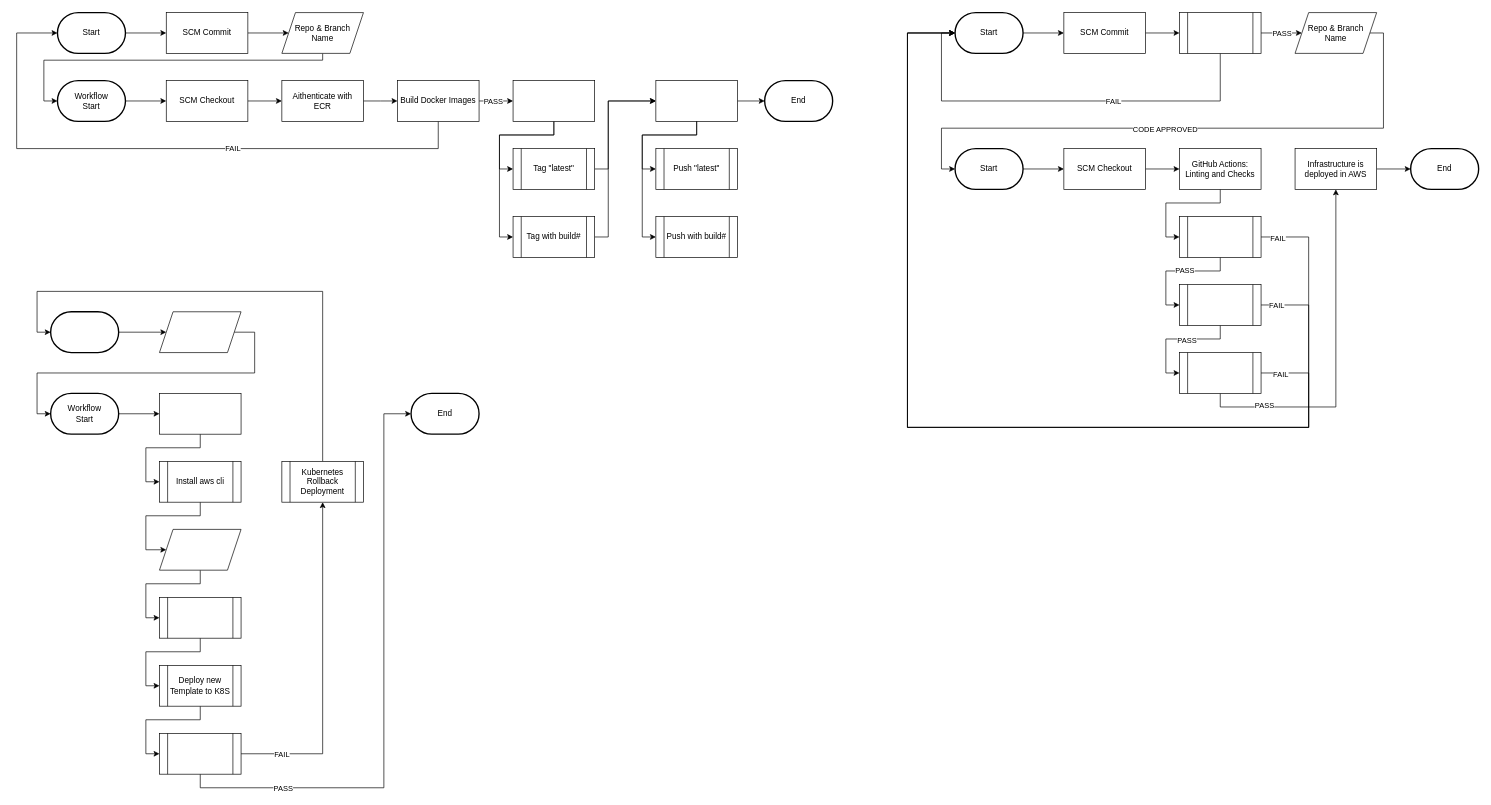
The diagram is 1491 pixels wide and 805 high, and some of its shapes have lost their labels. The box of each missing label's shape, as (x1, y1, x2, y2) in pixels:
Deploy new ECR image to EKS: (159, 393, 241, 434)
Detect new Docker image: (159, 311, 241, 353)
Get latest ECR image URI: (159, 529, 241, 570)
Monitor K8s Deployment for success: (159, 733, 241, 774)
On commit GitHub Actions runs pre-commit: (1179, 12, 1261, 53)
Push Docker Images: (655, 80, 737, 121)
Run terraform apply: (1179, 352, 1261, 393)
Run tflint on Terrafom code: (1179, 216, 1261, 257)
Run tfplan on Terraform code: (1179, 284, 1261, 325)
Sart: (50, 311, 119, 353)
Tag Docker Images: (512, 80, 595, 121)
Update K8s Deploy Template with new Image URI: (159, 597, 241, 638)
